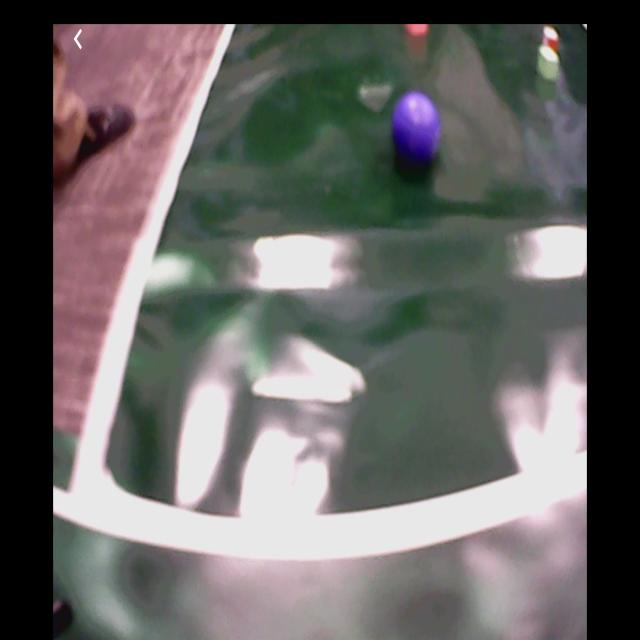ball: (395, 94, 442, 159)
